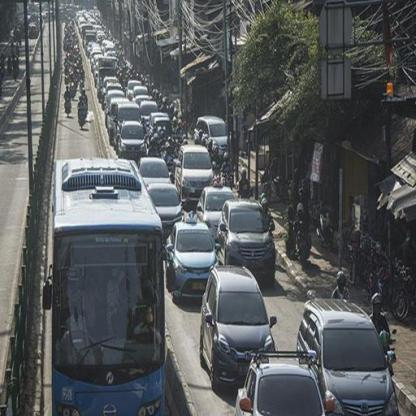bus: (49, 155, 171, 415)
car: (300, 296, 392, 412), (199, 266, 275, 381), (239, 345, 321, 416), (220, 197, 276, 273), (165, 215, 217, 294), (174, 146, 214, 196), (195, 113, 233, 156), (154, 184, 182, 229), (114, 118, 148, 155)
